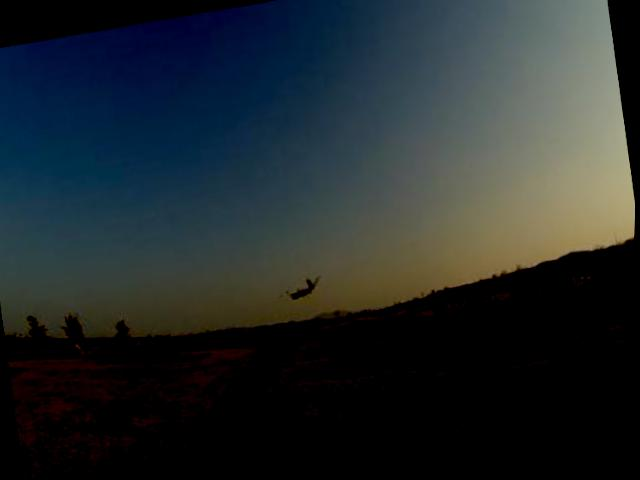uav: (274, 272, 332, 311)
